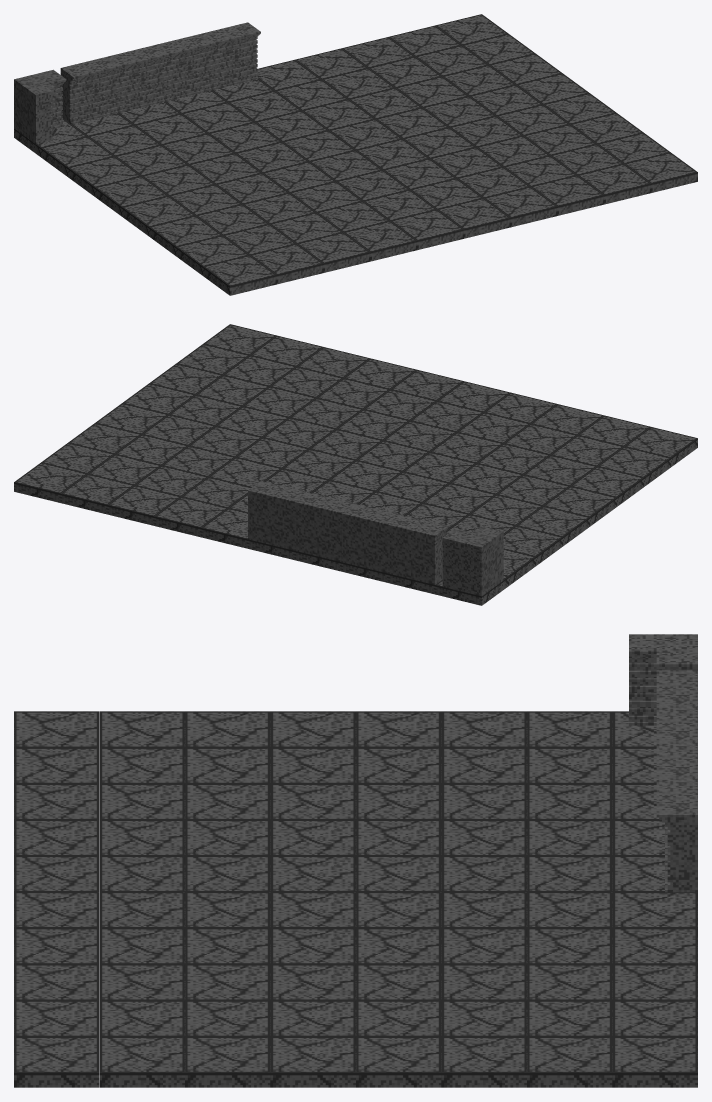
The model's file is room.glb.
3 renders of one model, top to bottom at view 1: azimuth 30°, elevation 25°; view 2: azimuth 150°, elevation 25°; view 3: azimuth 270°, elevation 25°, orthographic. The views are drawn at different scales.
Parts seen in each view (by area): view 1: Floor_Smooth_Var2.001; view 2: Floor_Smooth_Var2.001; view 3: Floor_Smooth_Var2.001.
Boxes of the visible parts, x1,y1,x2,y2 form: Floor_Smooth_Var2.001: (14, 14, 697, 295); Floor_Smooth_Var2.001: (14, 324, 697, 605); Floor_Smooth_Var2.001: (14, 634, 697, 1087).
Bounding box in the file's own units: 31 × 3.7 × 24.8.
3 materials, 3 textured.
